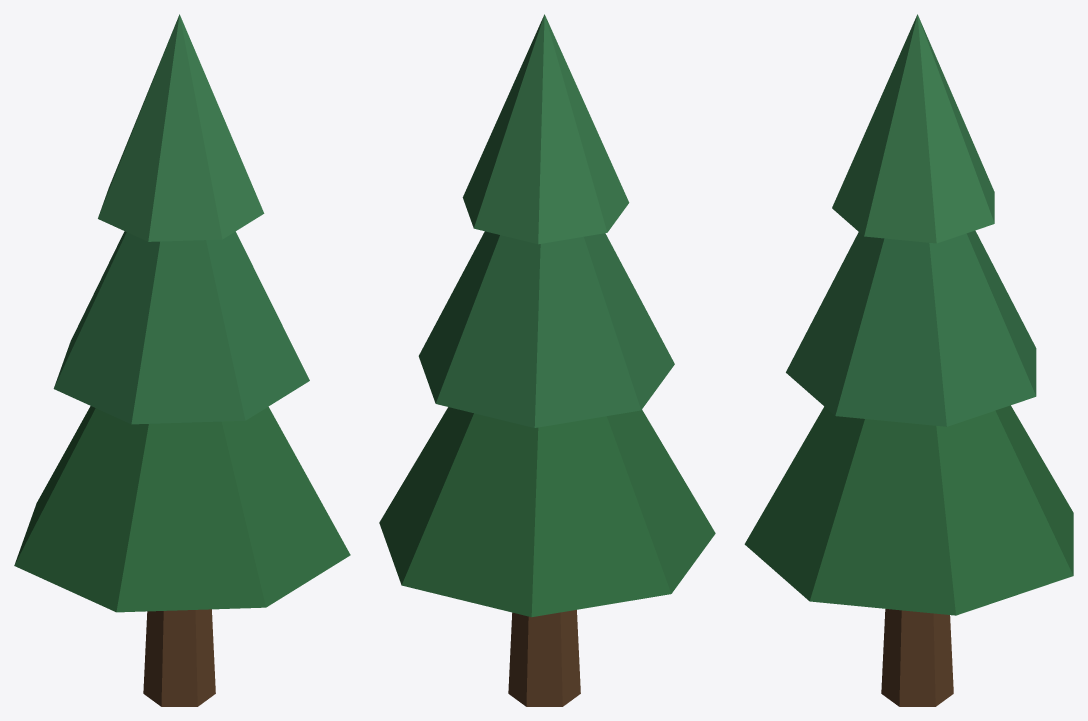
Rendered from tree_pine_01.glb.
The picture shows the model from 3 angles, left to right: view 1: azimuth 30°, elevation 25°; view 2: azimuth 150°, elevation 25°; view 3: azimuth 270°, elevation 25°; orthographic projection.
Visible parts, largest first — view 1: tree_pine_01_part1, tree_pine_01_part2, tree_pine_01_part3, tree_pine_01_part0; view 2: tree_pine_01_part1, tree_pine_01_part2, tree_pine_01_part3, tree_pine_01_part0; view 3: tree_pine_01_part1, tree_pine_01_part2, tree_pine_01_part3, tree_pine_01_part0.
Part boxes in pixels (box(x1,y1,x2,y2)): tree_pine_01_part1: box(14, 406, 350, 612); tree_pine_01_part2: box(53, 231, 309, 424); tree_pine_01_part3: box(98, 14, 264, 241); tree_pine_01_part0: box(143, 609, 215, 706); tree_pine_01_part1: box(379, 407, 715, 617); tree_pine_01_part2: box(418, 231, 674, 427); tree_pine_01_part3: box(462, 14, 629, 244); tree_pine_01_part0: box(508, 610, 580, 706); tree_pine_01_part1: box(744, 405, 1073, 615); tree_pine_01_part2: box(786, 230, 1036, 426); tree_pine_01_part3: box(832, 14, 994, 243); tree_pine_01_part0: box(881, 609, 953, 706).
Bounding box in the file's own units: 2.05 × 4.55 × 2.
